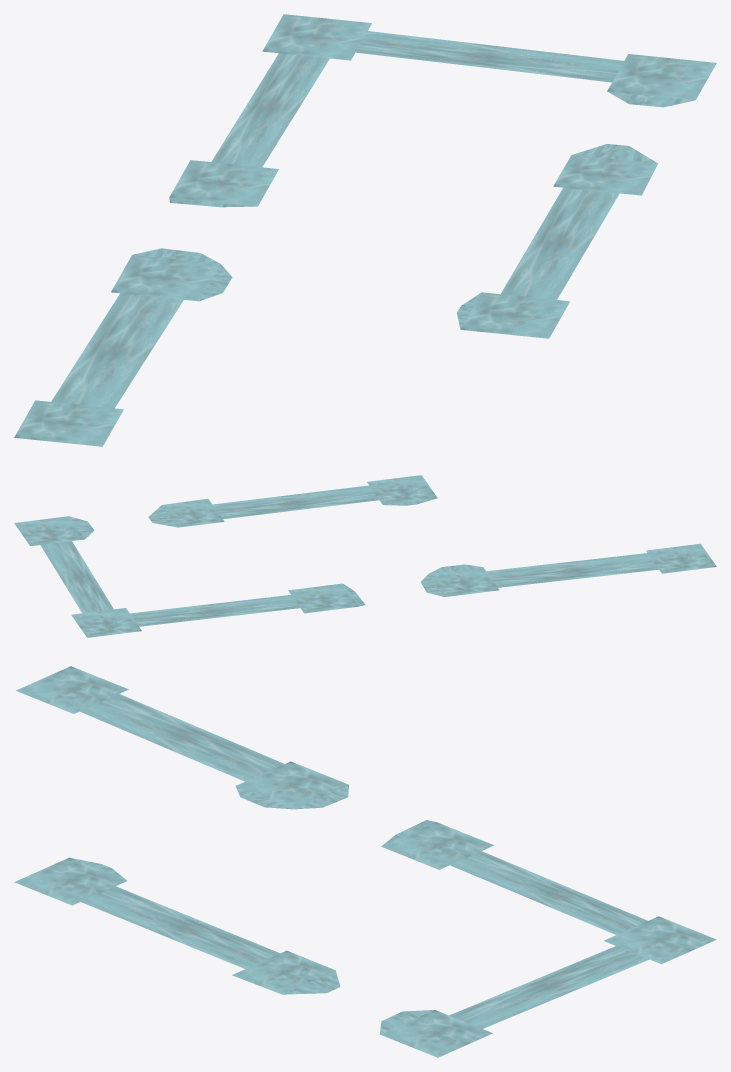
Rendered from LV4Hitbox.fbx.
3 views of the same model, one above another, from view 1: azimuth 30°, elevation 25°; view 2: azimuth 150°, elevation 25°; view 3: azimuth 270°, elevation 25° (orthographic). The views are drawn at different scales.
Parts seen in each view (by area): view 1: polySurface212; view 2: polySurface212; view 3: polySurface212.
Part boxes in pixels (box(x1,y1,x2,y2)): polySurface212: box(14, 14, 716, 446); polySurface212: box(14, 475, 716, 637); polySurface212: box(14, 666, 716, 1057).
Size of the model in its own units: 193 by 0.0182 by 146.
